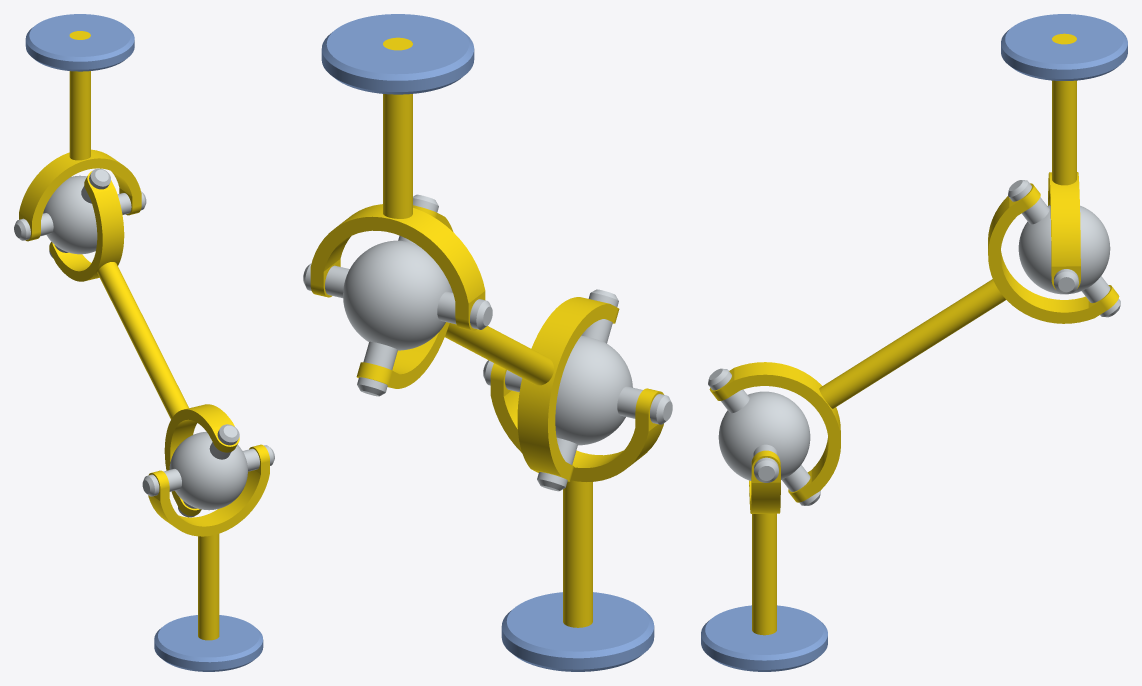
Rendered from doublehookejoint.gltf.
3 views of the same model, side by side, from view 1: azimuth 30°, elevation 25°; view 2: azimuth 150°, elevation 25°; view 3: azimuth 270°, elevation 25° (orthographic). The views are drawn at different scales.
Visible parts, largest first — view 1: yoke (×4), spidersphere (×2), disk (×2); view 2: yoke (×4), spidersphere (×2), disk (×2); view 3: yoke (×4), spidersphere (×2), disk (×2).
Boxes of the visible parts, x1,y1,x2,y2 form: yoke (×4): [19, 31, 269, 640]; spidersphere (×2): [14, 168, 274, 517]; disk (×2): [25, 14, 263, 671]; yoke (×4): [310, 37, 663, 627]; spidersphere (×2): [303, 194, 672, 491]; disk (×2): [321, 14, 654, 671]; yoke (×4): [709, 33, 1119, 635]; spidersphere (×2): [708, 180, 1120, 505]; disk (×2): [701, 14, 1127, 671].
Bounding box in the file's own units: 0.1643 × 0.644 × 0.4098.
